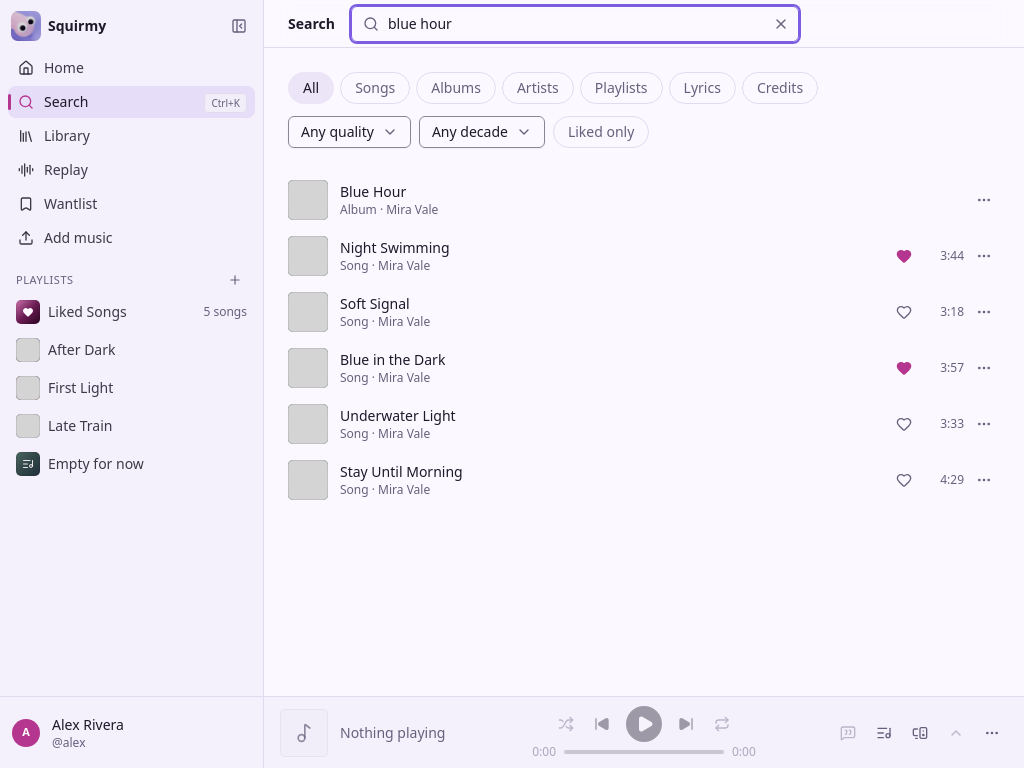
Scenario: search page › saves an album or an artist to the library from its row's menu, as the heart does
The width and height of the screenshot is (1024, 768).
Later steps or results of the test are not shown.
Click the button named "More options for Blue Hour".
click(984, 200)  # box [968, 184, 1000, 216]
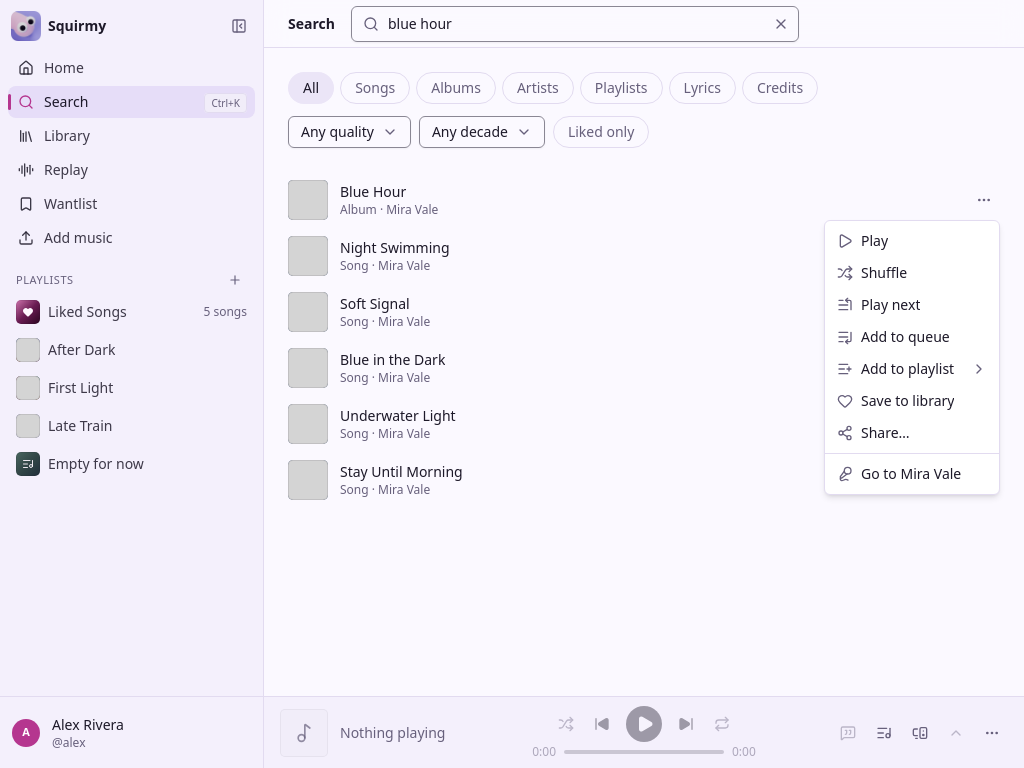
Click the menu item "Save to library".
click(896, 400)  # box [837, 391, 954, 410]
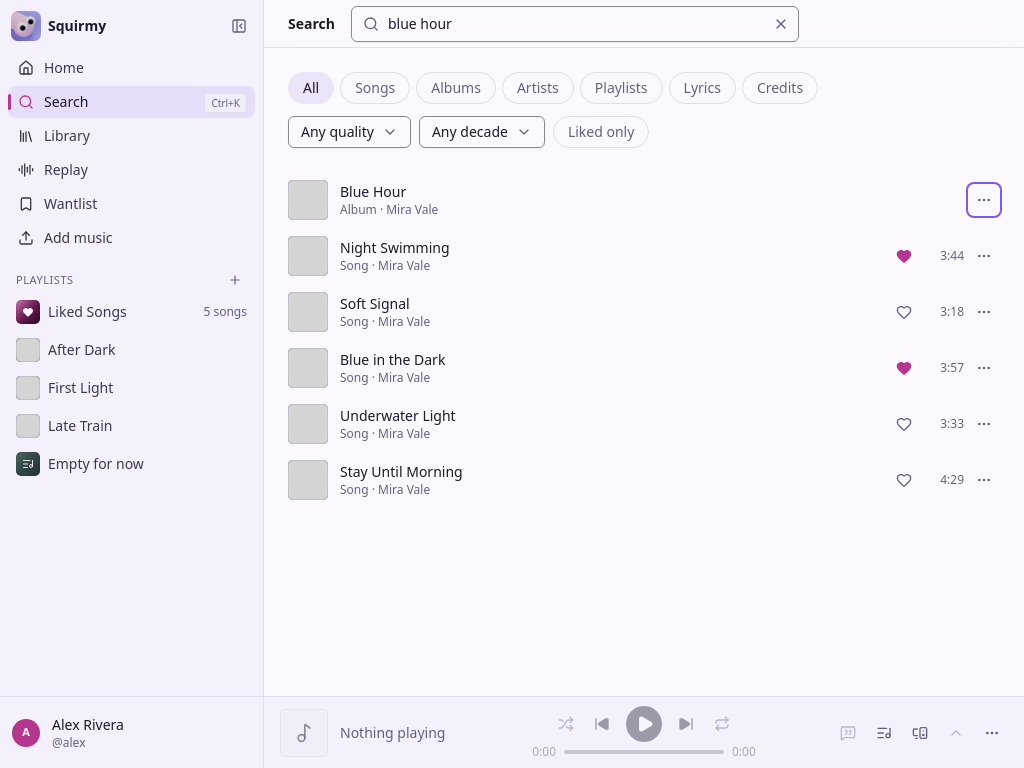
Expected: the menu is gone
Click the button named "More options for Blue Hour".
click(984, 200)  # box [968, 184, 1000, 216]
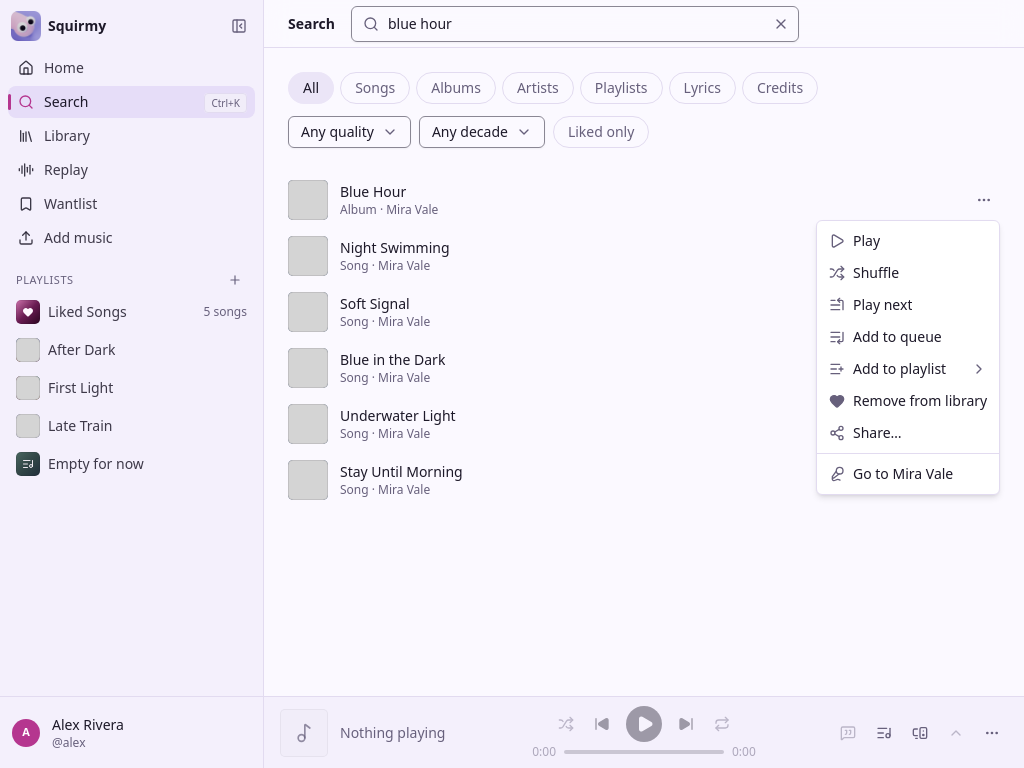
Expected: the menu item "Remove from library" is shown, [829, 391, 987, 410]
